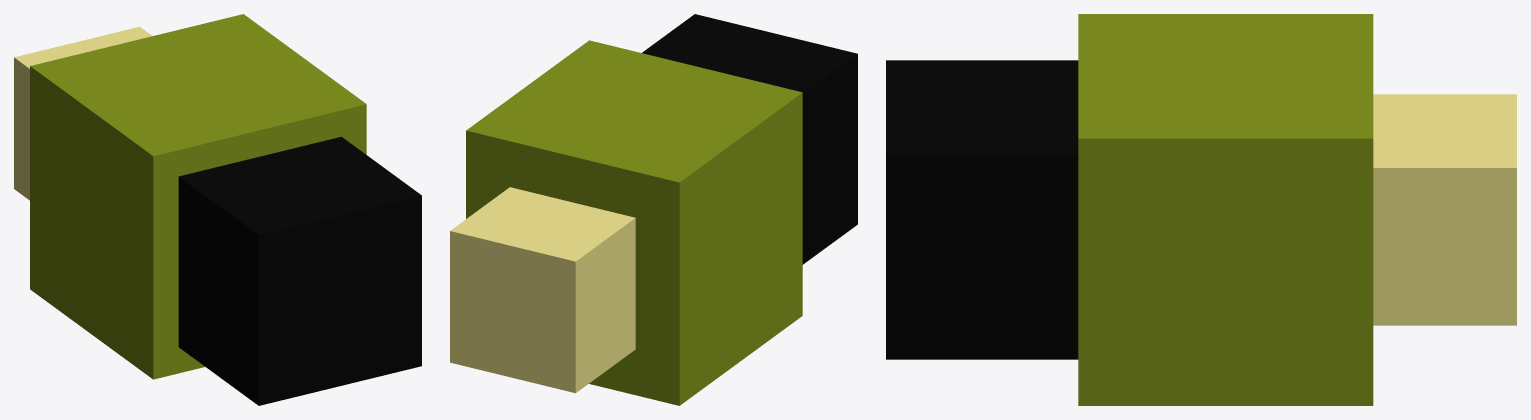
The model's file is deadvillagerfree.fbx.
3 renders of one model, left to right at view 1: azimuth 30°, elevation 25°; view 2: azimuth 150°, elevation 25°; view 3: azimuth 270°, elevation 25°, orthographic. The views are drawn at different scales.
Parts seen in each view (by area): view 1: deadvillager; view 2: deadvillager; view 3: deadvillager.
Boxes of the visible parts, left/top/right/bottom form: deadvillager: left=14, top=14, right=421, bottom=405; deadvillager: left=450, top=14, right=857, bottom=405; deadvillager: left=886, top=14, right=1516, bottom=405.
Size of the model in its own units: 0.0986 by 0.0986 by 0.2109.
